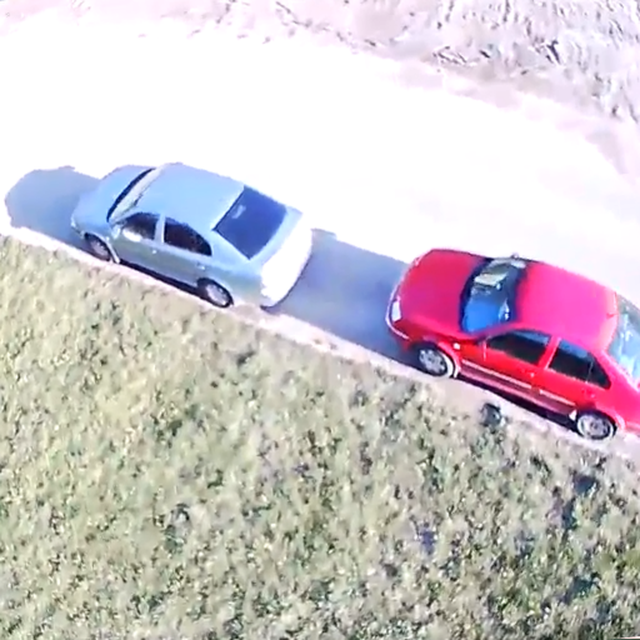car: (386, 246, 640, 440), (69, 164, 312, 310)
